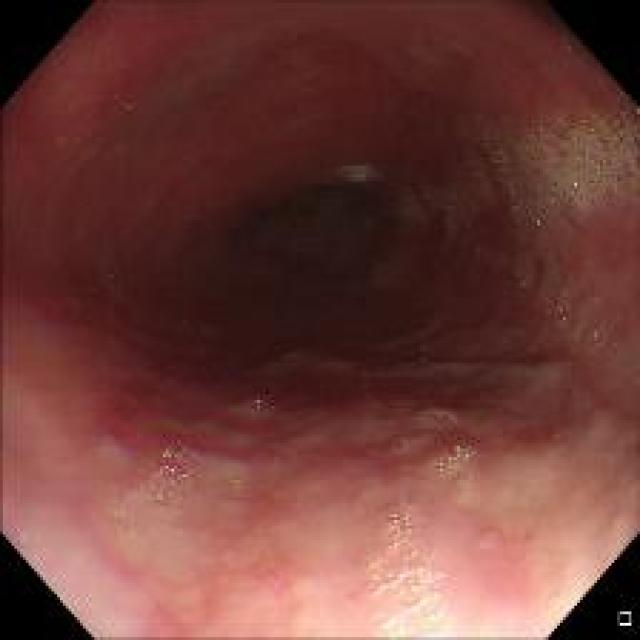bubbles: (446, 104, 619, 306), (351, 501, 461, 635), (135, 442, 212, 522), (426, 398, 476, 495), (554, 306, 591, 340), (586, 330, 621, 356), (241, 388, 269, 416), (476, 528, 502, 552), (394, 432, 416, 454), (226, 474, 244, 494)
contrast: (192, 155, 424, 301)
